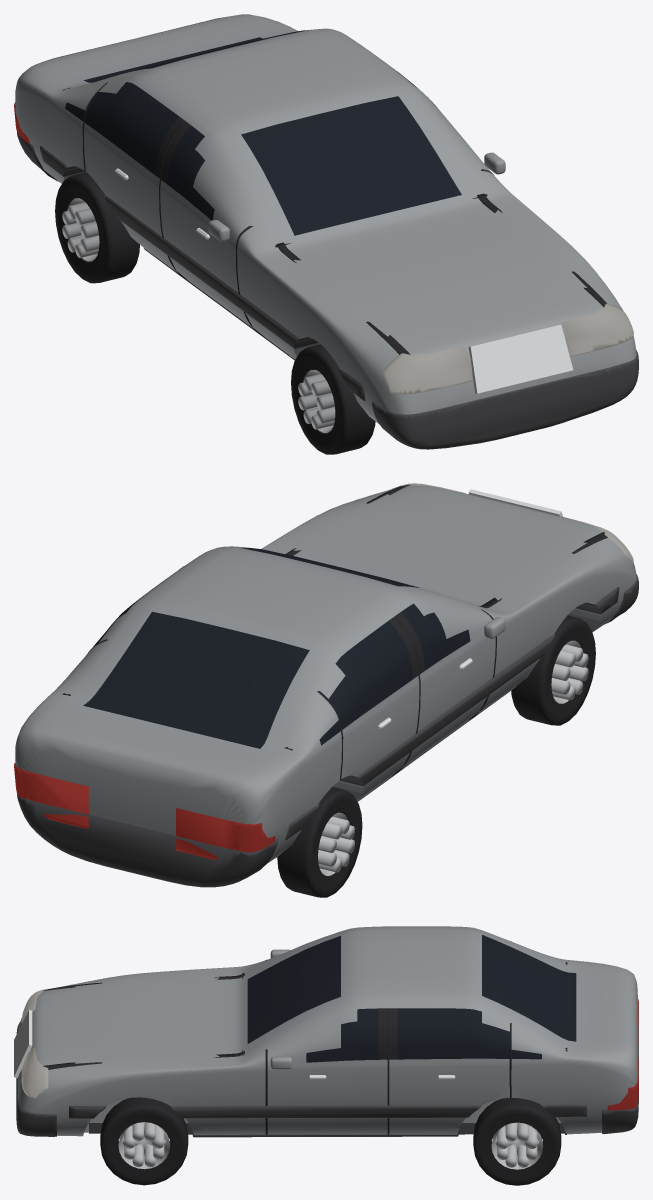
3 renders of one model, top to bottom at view 1: azimuth 30°, elevation 25°; view 2: azimuth 150°, elevation 25°; view 3: azimuth 270°, elevation 25°, orthographic. The views are drawn at different scales.
Parts seen in each view (by area): view 1: Body, Wheel_RR.002, Wheel_FR.001; view 2: Body, Wheel_RR.002, Wheel_FR.001; view 3: Body, Wheel_FL.001, Wheel_RL.002.
Boxes of the visible parts, left/top/right/bottom form: Body: left=14, top=14, right=638, bottom=449; Wheel_RR.002: left=55, top=172, right=139, bottom=283; Wheel_FR.001: left=291, top=344, right=375, bottom=454; Body: left=14, top=483, right=638, bottom=887; Wheel_RR.002: left=277, top=787, right=362, bottom=897; Wheel_FR.001: left=511, top=615, right=595, bottom=725; Body: left=14, top=926, right=638, bottom=1137; Wheel_FL.001: left=100, top=1097, right=188, bottom=1185; Wheel_RL.002: left=473, top=1098, right=561, bottom=1185.
Size of the model in its own units: 1.89 by 1.41 by 4.51.
